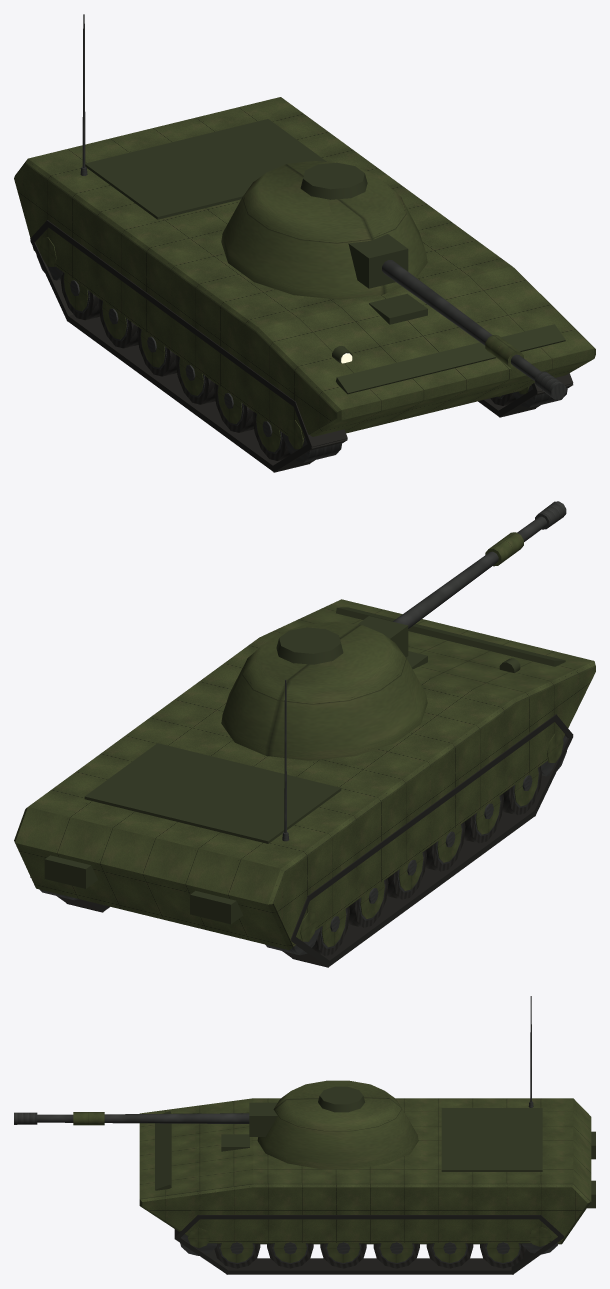
3 renders of one model, top to bottom at view 1: azimuth 30°, elevation 25°; view 2: azimuth 150°, elevation 25°; view 3: azimuth 270°, elevation 25°, orthographic. The views are drawn at different scales.
Visible parts, largest first — view 1: PT76_Amphibious_Tank; view 2: PT76_Amphibious_Tank; view 3: PT76_Amphibious_Tank.
Part boxes in pixels (x1=…): PT76_Amphibious_Tank: x1=14, y1=14, x2=595, y2=472; PT76_Amphibious_Tank: x1=14, y1=501, x2=595, y2=967; PT76_Amphibious_Tank: x1=14, y1=996, x2=595, y2=1274.
Bounding box in the file's own units: 3.06 × 3.24 × 8.53.
Materials: 6 (3 with a texture image).
